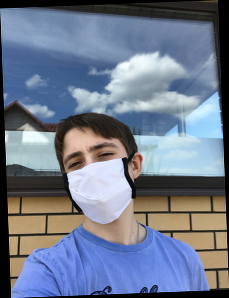with_mask: (63, 132, 136, 225)
